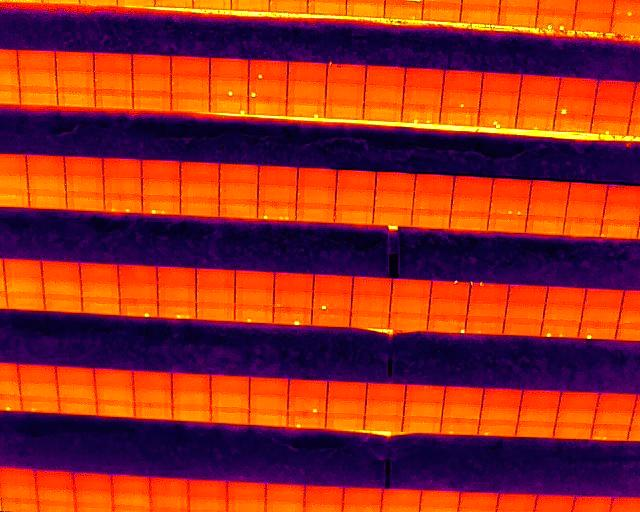Cell: (249, 60, 288, 80), (427, 315, 466, 333), (555, 98, 596, 115), (235, 306, 273, 324), (274, 308, 312, 326), (431, 281, 469, 299), (248, 81, 287, 98), (210, 97, 249, 114), (593, 116, 629, 134), (209, 79, 247, 96), (313, 293, 351, 310), (22, 396, 60, 413), (442, 91, 480, 107), (478, 420, 516, 436), (121, 302, 158, 318), (440, 420, 479, 435), (578, 324, 616, 339), (287, 101, 325, 116), (288, 397, 326, 412), (288, 413, 326, 427)
Cell-Multi: (142, 196, 181, 214), (537, 10, 573, 29), (490, 197, 528, 215), (258, 203, 296, 220), (402, 105, 440, 122), (590, 425, 630, 441), (541, 321, 578, 338), (470, 283, 507, 300), (105, 195, 142, 212), (478, 111, 516, 127), (157, 302, 195, 317)
No-Anomaly: (366, 65, 405, 86), (297, 167, 336, 188), (327, 63, 366, 83), (210, 59, 249, 79), (235, 270, 274, 290), (443, 71, 482, 91), (56, 52, 95, 72), (94, 52, 132, 72), (325, 83, 365, 102), (288, 81, 326, 101), (18, 49, 56, 69), (181, 161, 219, 181), (142, 159, 180, 179), (600, 220, 639, 239), (453, 176, 492, 195), (337, 170, 376, 189), (458, 494, 499, 512), (171, 76, 209, 95), (6, 291, 44, 310), (44, 294, 82, 313), (518, 94, 556, 113), (461, 4, 499, 23), (219, 200, 257, 219), (259, 166, 297, 185), (573, 11, 611, 30), (289, 378, 327, 397), (304, 486, 342, 505), (266, 485, 304, 504), (596, 80, 636, 98), (507, 284, 547, 302), (570, 182, 606, 202), (496, 494, 536, 512), (593, 98, 633, 116), (406, 69, 443, 88), (492, 178, 529, 197), (498, 7, 535, 26), (423, 1, 460, 20), (67, 192, 104, 211), (0, 487, 37, 506), (196, 303, 235, 321), (558, 79, 597, 97), (392, 279, 431, 297), (353, 277, 392, 295), (526, 216, 565, 234), (81, 280, 120, 298), (196, 269, 235, 287), (390, 297, 429, 315), (520, 77, 559, 95), (220, 164, 259, 182), (530, 180, 569, 198), (479, 93, 520, 110), (521, 390, 562, 407), (514, 420, 555, 437), (419, 491, 460, 508), (381, 490, 422, 507), (288, 63, 326, 81), (350, 311, 388, 329), (171, 58, 209, 76), (133, 55, 171, 73), (275, 275, 313, 293), (352, 295, 390, 313), (119, 266, 157, 284), (157, 267, 195, 285), (18, 70, 56, 88), (365, 86, 403, 104), (19, 87, 57, 105), (94, 73, 132, 91), (133, 73, 171, 91), (104, 177, 142, 195), (415, 174, 453, 192), (376, 172, 414, 190), (27, 156, 65, 174), (104, 159, 142, 177), (364, 104, 402, 122), (133, 92, 171, 110), (414, 193, 452, 211), (336, 190, 376, 207), (603, 203, 640, 221), (564, 218, 601, 236), (386, 1, 423, 19), (483, 75, 520, 93), (189, 480, 226, 498), (430, 298, 469, 315), (450, 212, 489, 229), (42, 277, 81, 294), (19, 365, 58, 382), (314, 276, 353, 293), (80, 263, 119, 280), (35, 472, 74, 489), (66, 174, 105, 191), (597, 394, 636, 411), (366, 382, 405, 399), (343, 488, 382, 505), (606, 184, 639, 204), (335, 207, 373, 224), (312, 310, 350, 327), (581, 306, 619, 323), (506, 303, 544, 320), (211, 374, 249, 391), (173, 373, 211, 390), (57, 72, 95, 89), (4, 259, 42, 276), (142, 179, 180, 196), (219, 183, 257, 200), (28, 174, 66, 191), (65, 157, 103, 174), (249, 99, 287, 116), (375, 191, 413, 208), (258, 185, 296, 202), (482, 389, 520, 406), (452, 195, 490, 212), (529, 199, 567, 216), (180, 199, 218, 216), (327, 381, 365, 398), (250, 376, 288, 393), (172, 95, 210, 112), (560, 391, 598, 408), (227, 484, 265, 501), (151, 478, 189, 495), (73, 474, 111, 491), (112, 476, 150, 493), (36, 489, 74, 506), (533, 497, 576, 512), (365, 400, 405, 416), (412, 210, 449, 227), (468, 300, 505, 317), (544, 304, 581, 321), (404, 87, 441, 104), (58, 89, 95, 106), (120, 285, 157, 302), (95, 91, 132, 108), (30, 191, 67, 208), (296, 206, 335, 222), (374, 209, 413, 225), (593, 410, 632, 426), (180, 182, 219, 198), (112, 494, 151, 510), (150, 496, 189, 512), (297, 189, 336, 205), (20, 382, 59, 398), (405, 386, 444, 402), (59, 399, 98, 415), (518, 406, 557, 422), (572, 497, 613, 512), (467, 318, 503, 335), (585, 289, 621, 306), (548, 286, 584, 303), (158, 286, 196, 302), (82, 298, 120, 314), (326, 102, 364, 118), (445, 387, 483, 403), (566, 202, 604, 218), (250, 394, 288, 410), (211, 392, 249, 408), (442, 403, 480, 419), (347, 0, 384, 16), (58, 367, 95, 383), (489, 215, 526, 231), (0, 471, 37, 487), (98, 401, 135, 417), (75, 492, 112, 508), (554, 116, 591, 132), (5, 276, 44, 291), (440, 108, 479, 123), (516, 113, 555, 128), (96, 386, 135, 401), (57, 384, 96, 399), (326, 398, 365, 413), (402, 418, 441, 433), (503, 320, 541, 335), (389, 314, 427, 329), (95, 370, 133, 385), (134, 373, 172, 388), (235, 290, 273, 305), (42, 261, 80, 276), (405, 402, 443, 417), (554, 423, 592, 438), (250, 411, 288, 426), (326, 414, 364, 429), (211, 409, 249, 424), (363, 416, 403, 430), (173, 405, 210, 420), (136, 404, 173, 419), (274, 293, 313, 307), (196, 288, 235, 302), (557, 408, 593, 423), (173, 390, 211, 404), (135, 389, 172, 403), (481, 406, 520, 419)
